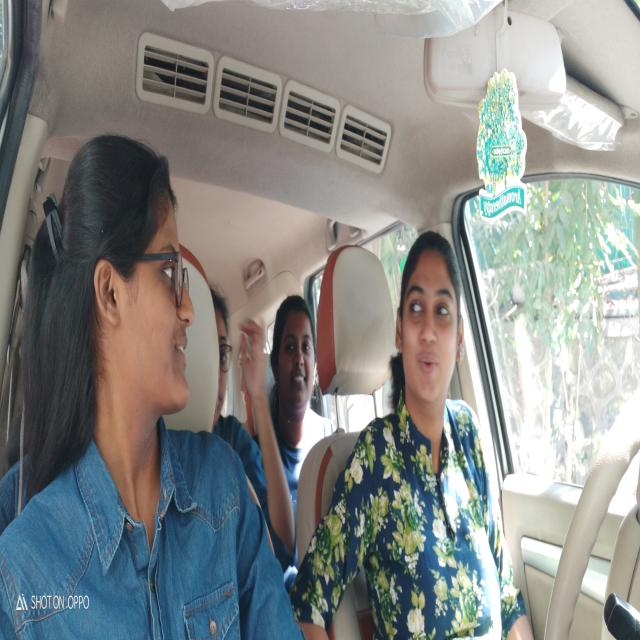LeftRight: (392, 222, 466, 415)
person: (72, 127, 196, 422), (276, 288, 316, 398), (216, 288, 238, 419)
talking: (414, 352, 445, 379), (173, 331, 190, 366)
